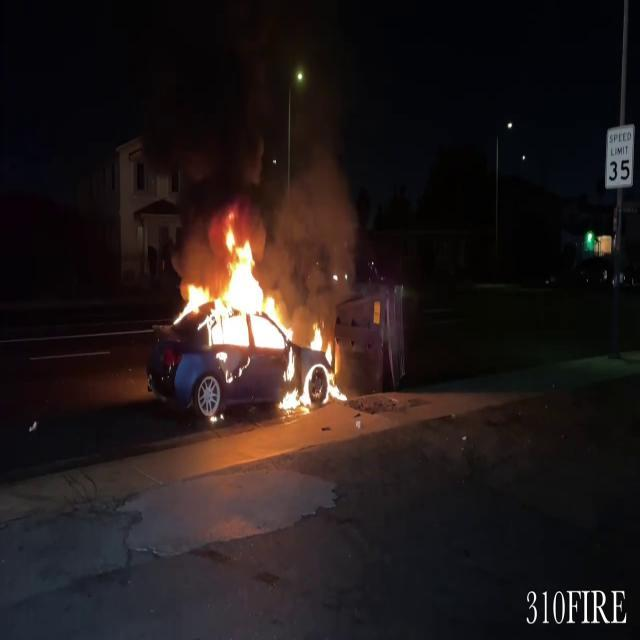Fire: (177, 211, 350, 414)
Smoke: (264, 150, 362, 310)
